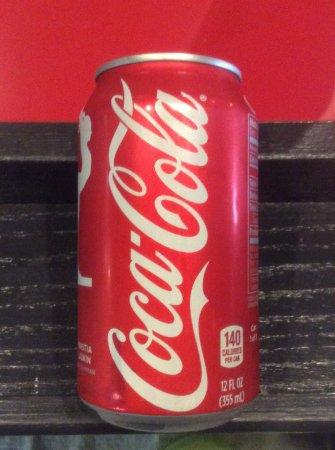metal: (77, 53, 260, 432)
